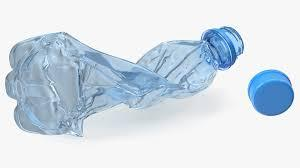plastic: (5, 26, 241, 134)
